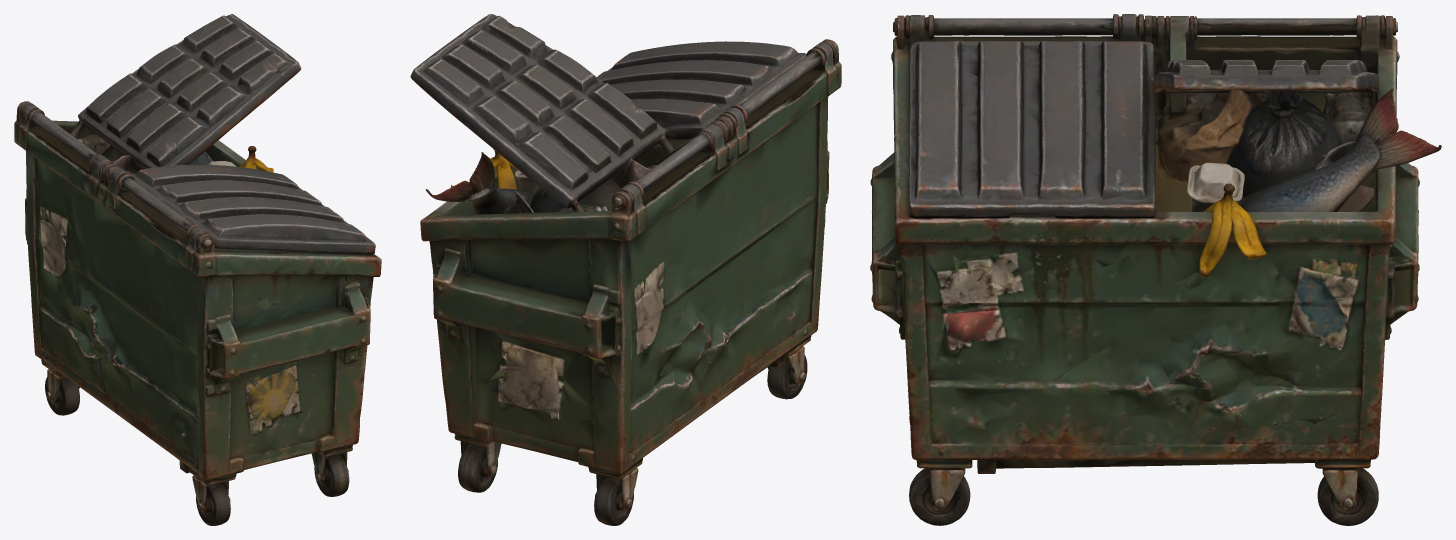
File: prop-dumpster.glb
3 views of the same model, side by side, from view 1: azimuth 30°, elevation 25°; view 2: azimuth 150°, elevation 25°; view 3: azimuth 270°, elevation 25° (orthographic). The views are drawn at different scales.
Visible parts, largest first — view 1: tripo_node_e64e5932-585c-4ff1-8426-093f1b79e6df; view 2: tripo_node_e64e5932-585c-4ff1-8426-093f1b79e6df; view 3: tripo_node_e64e5932-585c-4ff1-8426-093f1b79e6df.
Part boxes in pixels (left/top/right/bottom): tripo_node_e64e5932-585c-4ff1-8426-093f1b79e6df: left=14, top=14, right=381, bottom=525; tripo_node_e64e5932-585c-4ff1-8426-093f1b79e6df: left=410, top=14, right=841, bottom=525; tripo_node_e64e5932-585c-4ff1-8426-093f1b79e6df: left=870, top=14, right=1441, bottom=525.
Size of the model in its own units: 0.5603 by 0.9189 by 0.9809.
1 material, 1 textured.
